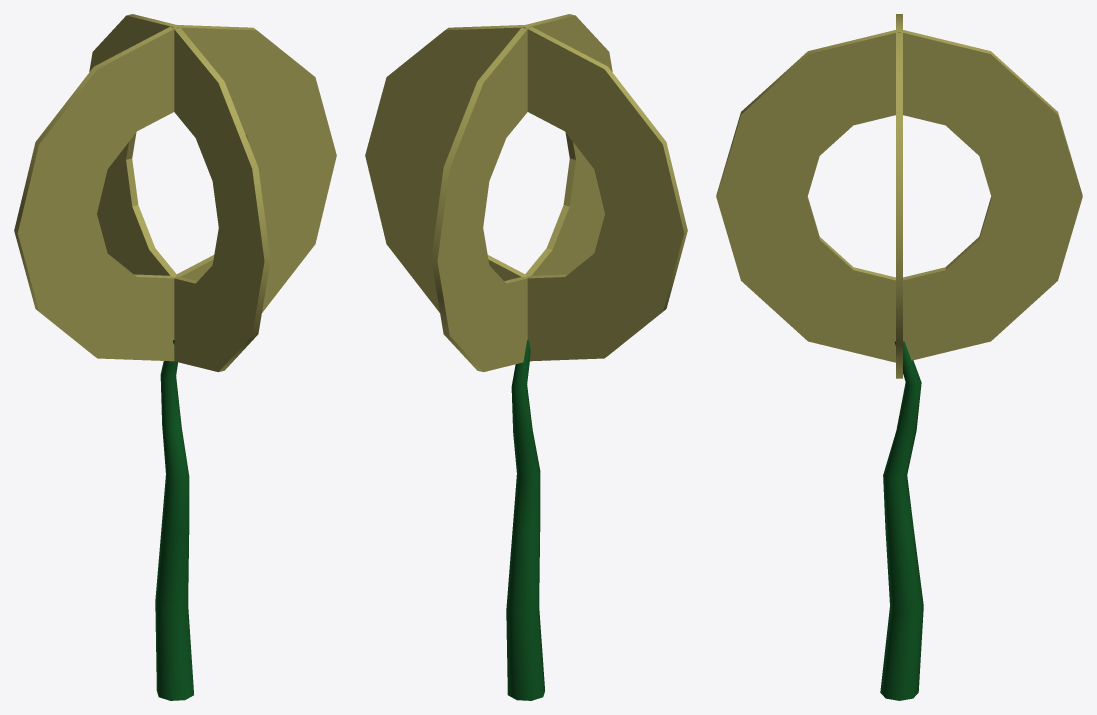
The model's file is Flower1.fbx.
3 renders of one model, left to right at view 1: azimuth 30°, elevation 25°; view 2: azimuth 150°, elevation 25°; view 3: azimuth 270°, elevation 25°, orthographic.
Visible parts, largest first — view 1: pCylinder7; view 2: pCylinder7; view 3: pCylinder7.
Part boxes in pixels (x1,y1,x2,y2): pCylinder7: (14, 14, 336, 700); pCylinder7: (365, 14, 687, 700); pCylinder7: (716, 14, 1082, 700).
Bounding box in the file's own units: 0.4091 × 0.8169 × 0.4091.
